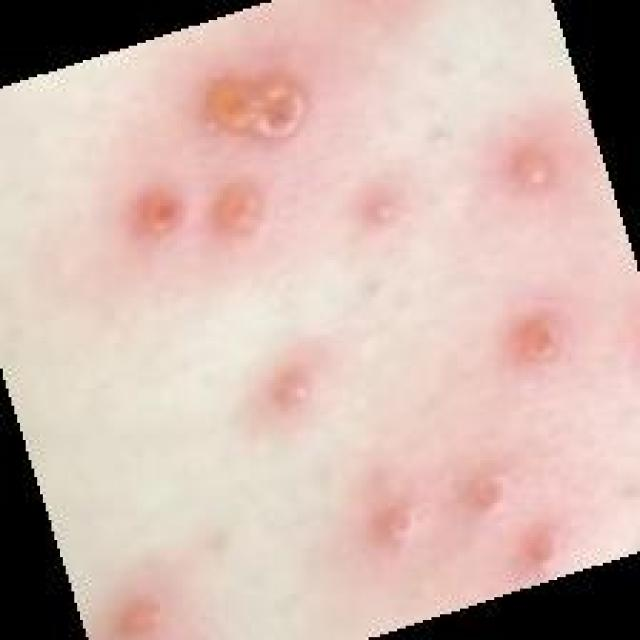others: (50, 65, 583, 578)
